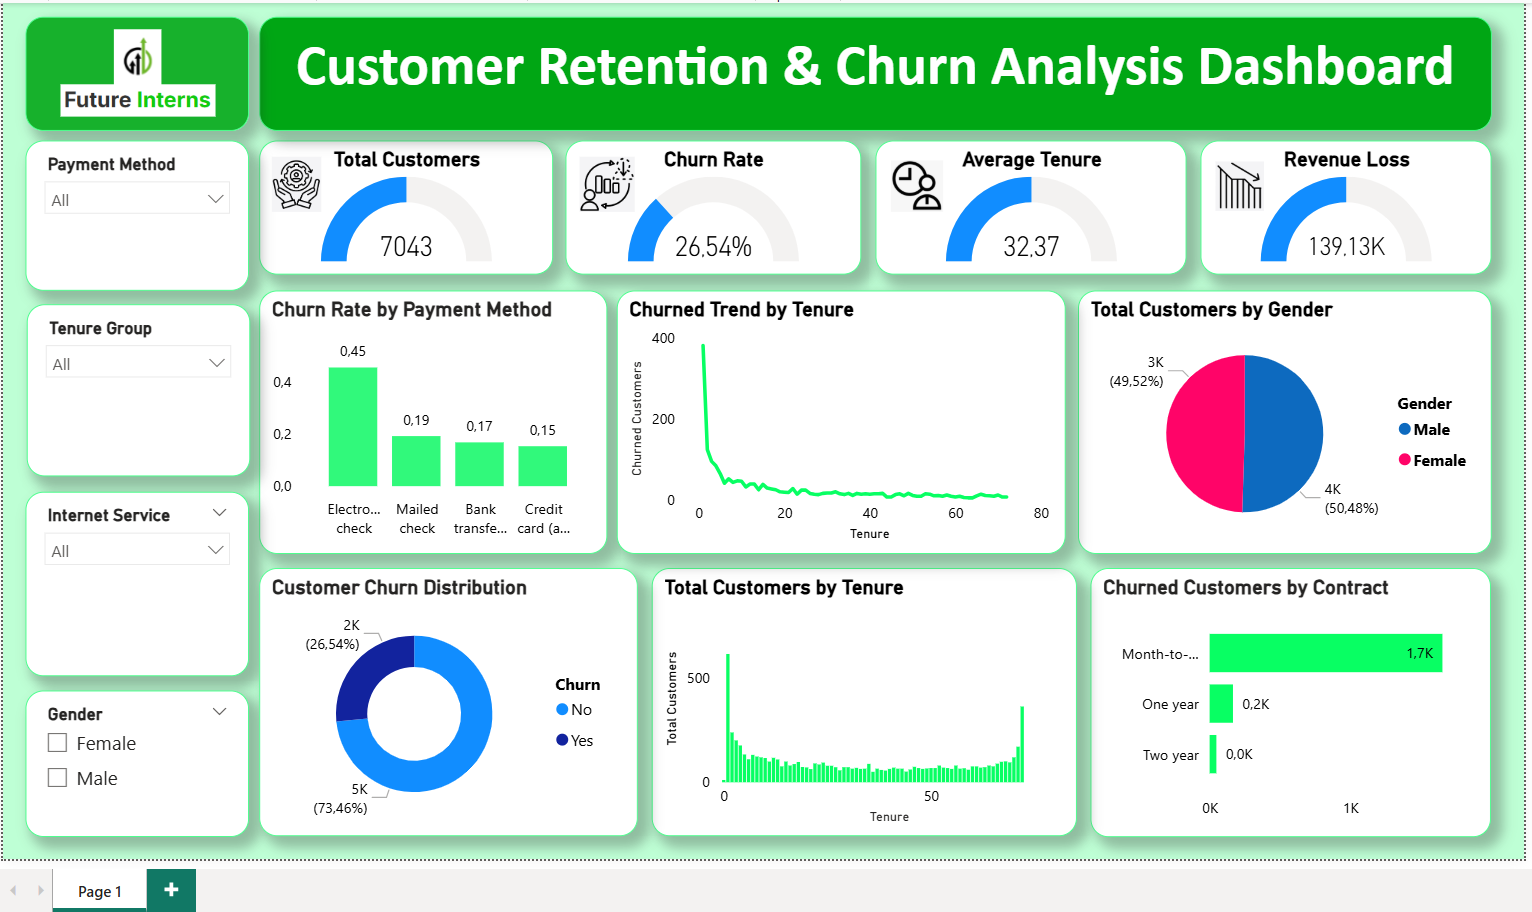

What the dashboard file says about the page in this screenshot:
{"tool":"powerbi","page":{"name":"Page 1","canvas":[1280,720],"ordinal":0},"visuals":[{"type":"gauge","fields":{"Y":["WA_Fn-UseC_-Telco-Customer-Churn.Total Customers"]},"box":[215.2,115.6,247.2,113.1],"z":0},{"type":"textbox","box":[215.2,11.1,1036.7,95.9],"z":1000},{"type":"textbox","box":[18.4,11.1,188.2,95.9],"z":2000},{"type":"image","box":[78.7,22.1,68.9,48],"z":3000},{"type":"image","box":[48,11.1,130.4,140.2],"z":4000},{"type":"gauge","fields":{"Y":["WA_Fn-UseC_-Telco-Customer-Churn.Churn Rate"]},"box":[473.5,115.6,248.4,113.1],"z":5000},{"type":"gauge","title":"Average Tenure","fields":{"Y":["WA_Fn-UseC_-Telco-Customer-Churn.Avg Tenure"]},"box":[734.2,115.6,262,113.1],"z":6000},{"type":"gauge","fields":{"Y":["WA_Fn-UseC_-Telco-Customer-Churn.Churn Revenue Loss"]},"box":[1007.2,115.6,244.7,113.1],"z":7000},{"type":"pieChart","fields":{"Y":["WA_Fn-UseC_-Telco-Customer-Churn.Total Customers"],"Category":["WA_Fn-UseC_-Telco-Customer-Churn.Gender"]},"box":[903.9,242.3,348,221.4],"z":8000},{"type":"clusteredBarChart","fields":{"Category":["WA_Fn-UseC_-Telco-Customer-Churn.Contract"],"Y":["WA_Fn-UseC_-Telco-Customer-Churn.Churned Customers"]},"box":[915,474.7,337,226.3],"z":9000},{"type":"clusteredColumnChart","title":"Churn Rate by Payment Method","fields":{"Category":["WA_Fn-UseC_-Telco-Customer-Churn.PaymentMethod"],"Y":["WA_Fn-UseC_-Telco-Customer-Churn.Churn Rate"]},"box":[215.2,242.3,292.7,221.4],"z":10000},{"type":"clusteredColumnChart","fields":{"Category":["WA_Fn-UseC_-Telco-Customer-Churn.tenure"],"Y":["WA_Fn-UseC_-Telco-Customer-Churn.Total Customers"]},"box":[545.6,475.2,357.8,225.8],"z":11000},{"type":"slicer","fields":{"Values":["WA_Fn-UseC_-Telco-Customer-Churn.PaymentMethod"]},"box":[18.4,115.6,188.2,126.7],"z":12000},{"type":"slicer","fields":{"Values":["WA_Fn-UseC_-Telco-Customer-Churn.Tenure Group"]},"box":[19.7,253.3,188.2,145.1],"z":13000},{"type":"slicer","fields":{"Values":["WA_Fn-UseC_-Telco-Customer-Churn.Internet Service"]},"box":[18.4,410.8,188.2,155],"z":14000},{"type":"lineChart","title":"Churned Trend by Tenure","fields":{"Category":["WA_Fn-UseC_-Telco-Customer-Churn.tenure"],"Y":["WA_Fn-UseC_-Telco-Customer-Churn.Churned Customers"]},"box":[516.5,242.3,377.6,221.4],"z":15000},{"type":"slicer","fields":{"Values":["WA_Fn-UseC_-Telco-Customer-Churn.Gender"]},"box":[18.4,578,188.2,123],"z":16000},{"type":"donutChart","title":"Customer Churn Distribution","fields":{"Category":["WA_Fn-UseC_-Telco-Customer-Churn.Churn"],"Y":["WA_Fn-UseC_-Telco-Customer-Churn.Total Customers"]},"box":[215.6,475.2,318.2,225.8],"z":17000},{"type":"image","box":[223.3,129.1,47.7,46.5],"z":18000},{"type":"image","box":[482.6,129.1,51.2,46.5],"z":19000},{"type":"image","box":[744.2,132.6,48.8,43],"z":20000},{"type":"image","box":[1019.8,132.6,40.7,43],"z":21000}]}

Visuals, with their boxes in screenshot pixels (x1, y1, x2, y2):
gauge - WA_Fn-UseC_-Telco-Customer-Churn.Total Customers: {"x1": 258, "y1": 140, "x2": 550, "y2": 274}
textbox: {"x1": 258, "y1": 17, "x2": 1482, "y2": 130}
textbox: {"x1": 26, "y1": 17, "x2": 248, "y2": 130}
image: {"x1": 97, "y1": 30, "x2": 178, "y2": 87}
image: {"x1": 61, "y1": 17, "x2": 215, "y2": 183}
gauge - WA_Fn-UseC_-Telco-Customer-Churn.Churn Rate: {"x1": 563, "y1": 140, "x2": 856, "y2": 274}
"Average Tenure" gauge: {"x1": 871, "y1": 140, "x2": 1180, "y2": 274}
gauge - WA_Fn-UseC_-Telco-Customer-Churn.Churn Revenue Loss: {"x1": 1193, "y1": 140, "x2": 1482, "y2": 274}
pieChart - WA_Fn-UseC_-Telco-Customer-Churn.Total Customers x WA_Fn-UseC_-Telco-Customer-Churn.Gender: {"x1": 1071, "y1": 290, "x2": 1482, "y2": 551}
clusteredBarChart - WA_Fn-UseC_-Telco-Customer-Churn.Contract x WA_Fn-UseC_-Telco-Customer-Churn.Churned Customers: {"x1": 1084, "y1": 564, "x2": 1482, "y2": 831}
"Churn Rate by Payment Method" clusteredColumnChart: {"x1": 258, "y1": 290, "x2": 603, "y2": 551}
clusteredColumnChart - WA_Fn-UseC_-Telco-Customer-Churn.tenure x WA_Fn-UseC_-Telco-Customer-Churn.Total Customers: {"x1": 648, "y1": 565, "x2": 1070, "y2": 831}
slicer - WA_Fn-UseC_-Telco-Customer-Churn.PaymentMethod: {"x1": 26, "y1": 140, "x2": 248, "y2": 290}
slicer - WA_Fn-UseC_-Telco-Customer-Churn.Tenure Group: {"x1": 27, "y1": 303, "x2": 249, "y2": 474}
slicer - WA_Fn-UseC_-Telco-Customer-Churn.Internet Service: {"x1": 26, "y1": 489, "x2": 248, "y2": 672}
"Churned Trend by Tenure" lineChart: {"x1": 614, "y1": 290, "x2": 1059, "y2": 551}
slicer - WA_Fn-UseC_-Telco-Customer-Churn.Gender: {"x1": 26, "y1": 686, "x2": 248, "y2": 831}
"Customer Churn Distribution" donutChart: {"x1": 258, "y1": 565, "x2": 634, "y2": 831}
image: {"x1": 268, "y1": 156, "x2": 324, "y2": 211}
image: {"x1": 574, "y1": 156, "x2": 634, "y2": 211}
image: {"x1": 882, "y1": 161, "x2": 940, "y2": 211}
image: {"x1": 1208, "y1": 161, "x2": 1256, "y2": 211}
